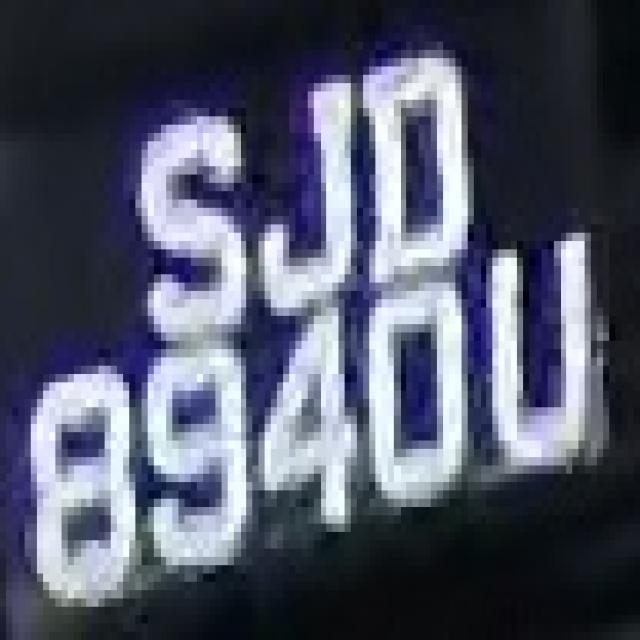0: (332, 266, 474, 524)
4: (252, 299, 376, 557)
8: (31, 341, 129, 615)
9: (123, 316, 252, 598)
D: (351, 17, 480, 324)
J: (228, 66, 363, 341)
S: (123, 83, 252, 333)
U: (462, 200, 628, 490)
